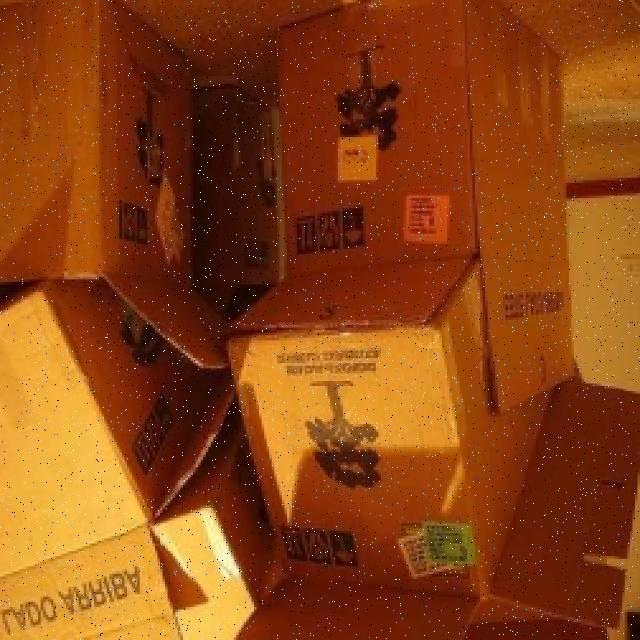box: (226, 305, 640, 640), (284, 0, 592, 394), (0, 290, 221, 640), (0, 0, 188, 295), (193, 80, 274, 308)
